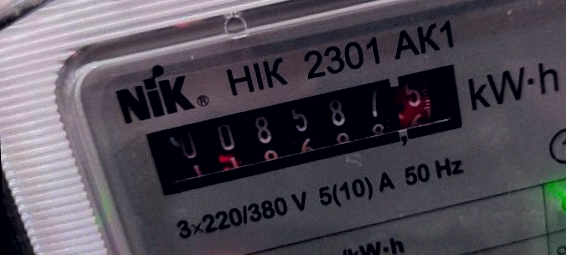0: (211, 117, 239, 152), (174, 127, 201, 160)
5: (287, 101, 311, 133), (400, 75, 423, 107)
6: (406, 110, 425, 127)
7: (361, 85, 385, 120)
8: (250, 112, 275, 145), (324, 94, 348, 128)
screen: (135, 62, 486, 197)
